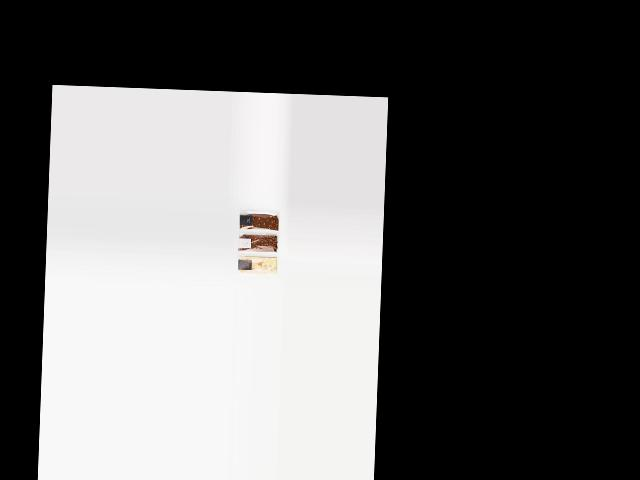chocolate: (240, 206, 283, 232)
